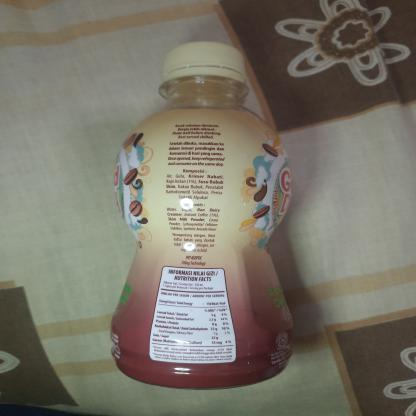bottle: (101, 38, 304, 394)
